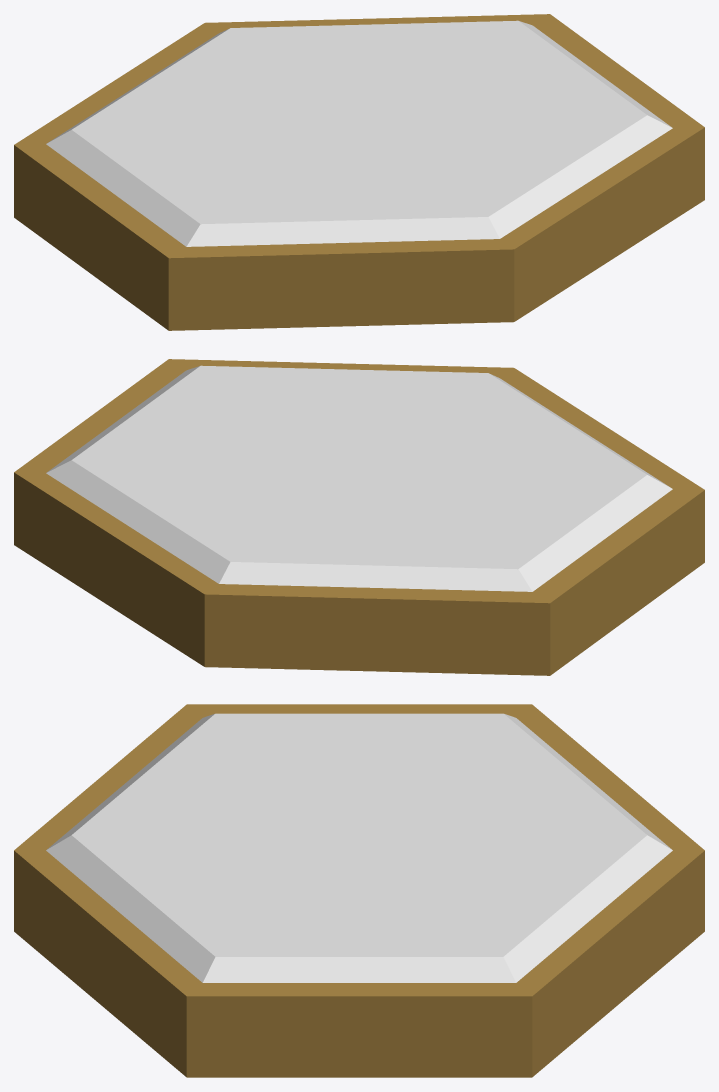
The model's file is Light.fbx.
The picture shows the model from 3 angles, top to bottom: view 1: azimuth 30°, elevation 25°; view 2: azimuth 150°, elevation 25°; view 3: azimuth 270°, elevation 25°; orthographic projection. The views are drawn at different scales.
Parts seen in each view (by area): view 1: Light; view 2: Light; view 3: Light.
Part boxes in pixels (<box>): Light: <box>14,14,704,330</box>; Light: <box>14,359,704,675</box>; Light: <box>14,704,704,1077</box>.
Bounding box in the file's own units: 45 × 6.92 × 45.
